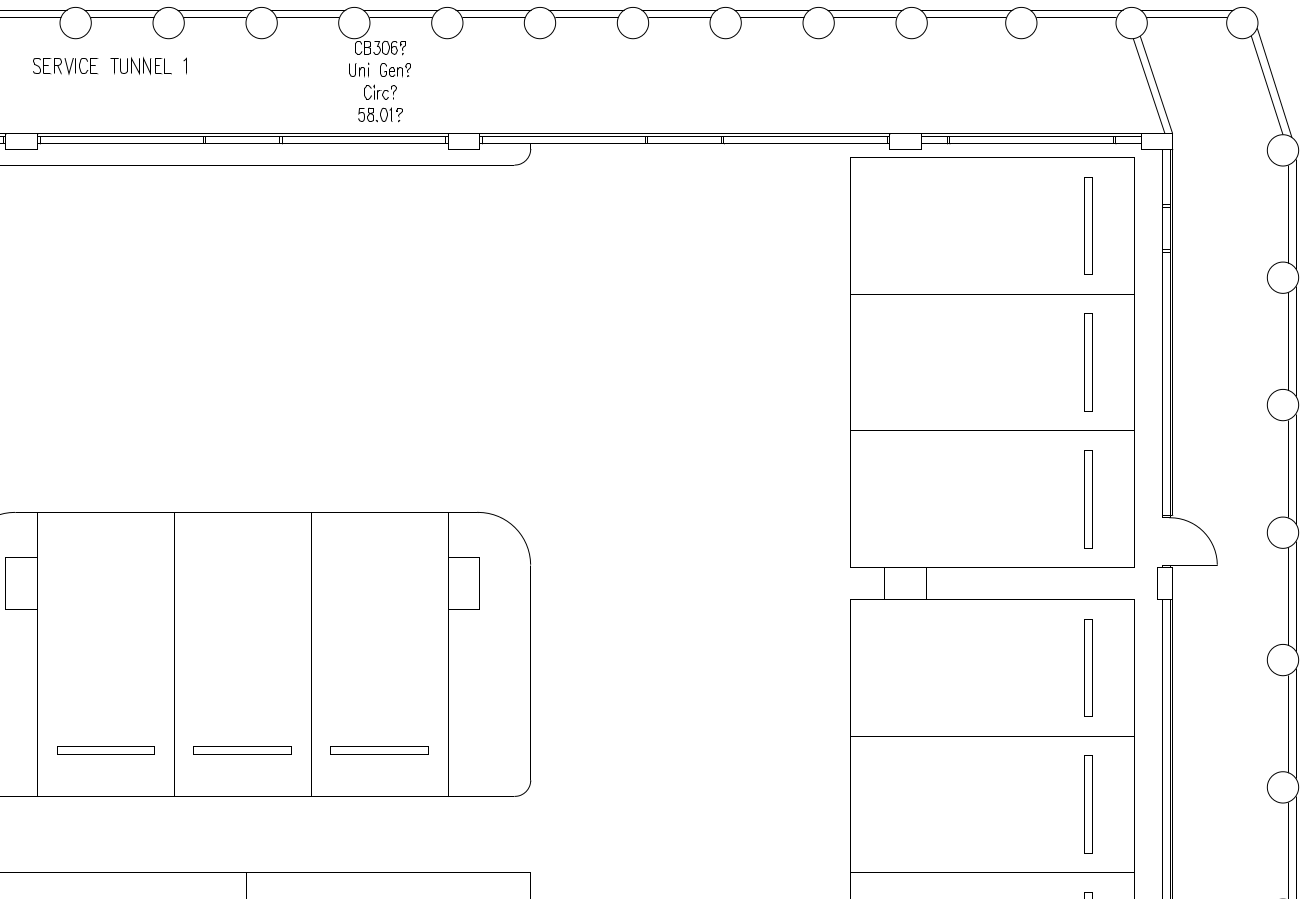door: (1166, 516, 1238, 570)
